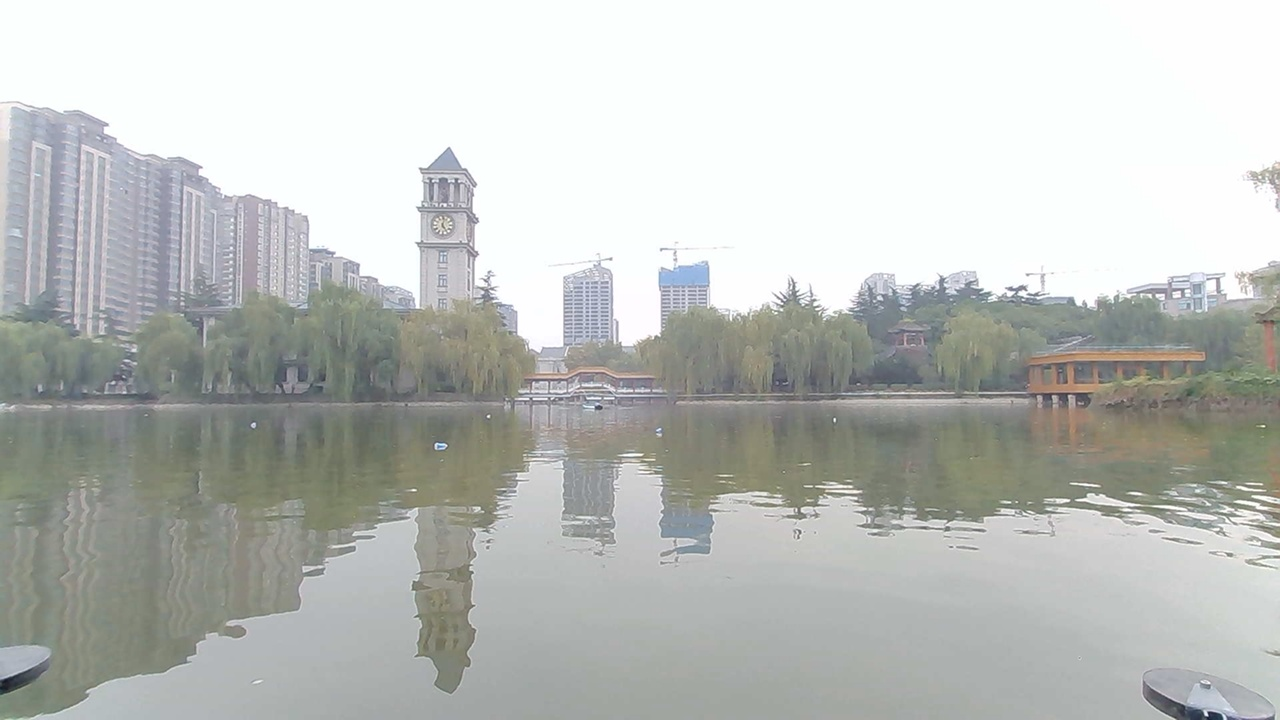bottle: (639, 413, 673, 440), (233, 412, 271, 436), (820, 405, 850, 431), (429, 439, 466, 460), (478, 403, 507, 425)
